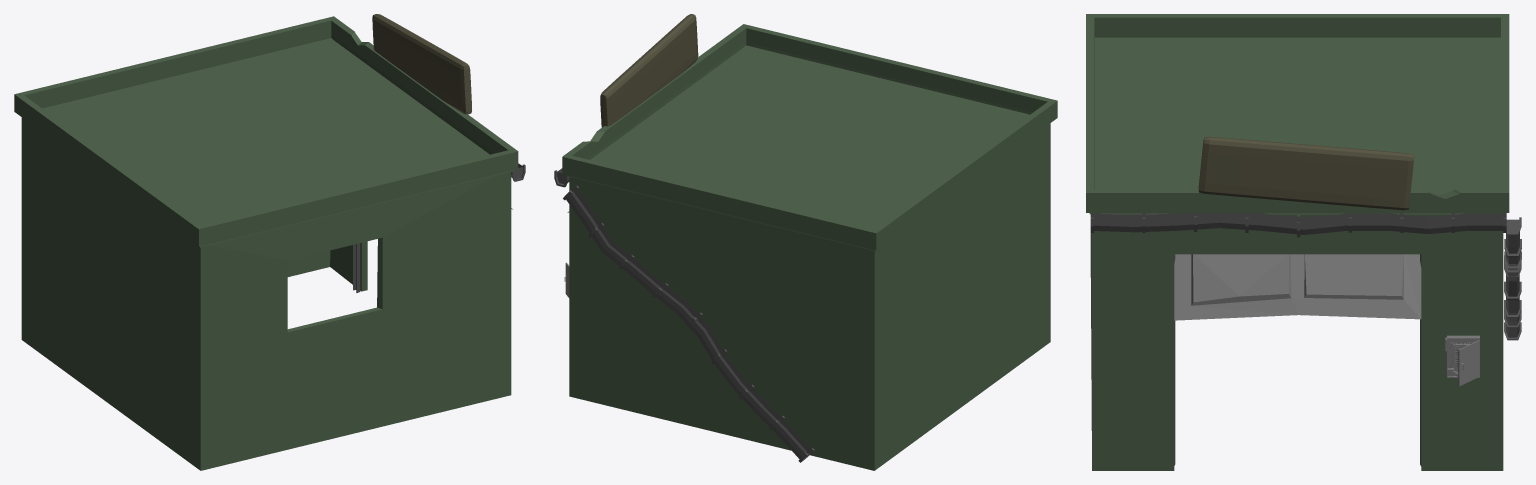
Rendered from ThePizzaShedFixed.fbx.
3 views of the same model, side by side, from view 1: azimuth 30°, elevation 25°; view 2: azimuth 150°, elevation 25°; view 3: azimuth 270°, elevation 25° (orthographic). The views are drawn at different scales.
Visible parts, largest first — view 1: Shed, sign; view 2: Shed, gutter.001, sign; view 3: Shed, GarageDoor, sign, gutter, gutter.001, Box, Plane.
Part boxes in pixels (x1,y1,x2,y2): Shed: [14, 16, 518, 470]; sign: [372, 14, 471, 114]; Shed: [562, 24, 1057, 470]; gutter.001: [563, 185, 814, 462]; sign: [600, 14, 698, 127]; Shed: [1086, 14, 1509, 470]; GarageDoor: [1174, 254, 1421, 320]; sign: [1198, 136, 1414, 210]; gutter: [1090, 213, 1506, 237]; gutter.001: [1504, 217, 1521, 340]; Box: [1445, 335, 1479, 386]; Plane: [1174, 254, 1421, 466].
Size of the model in its own units: 691 by 555 by 644.
